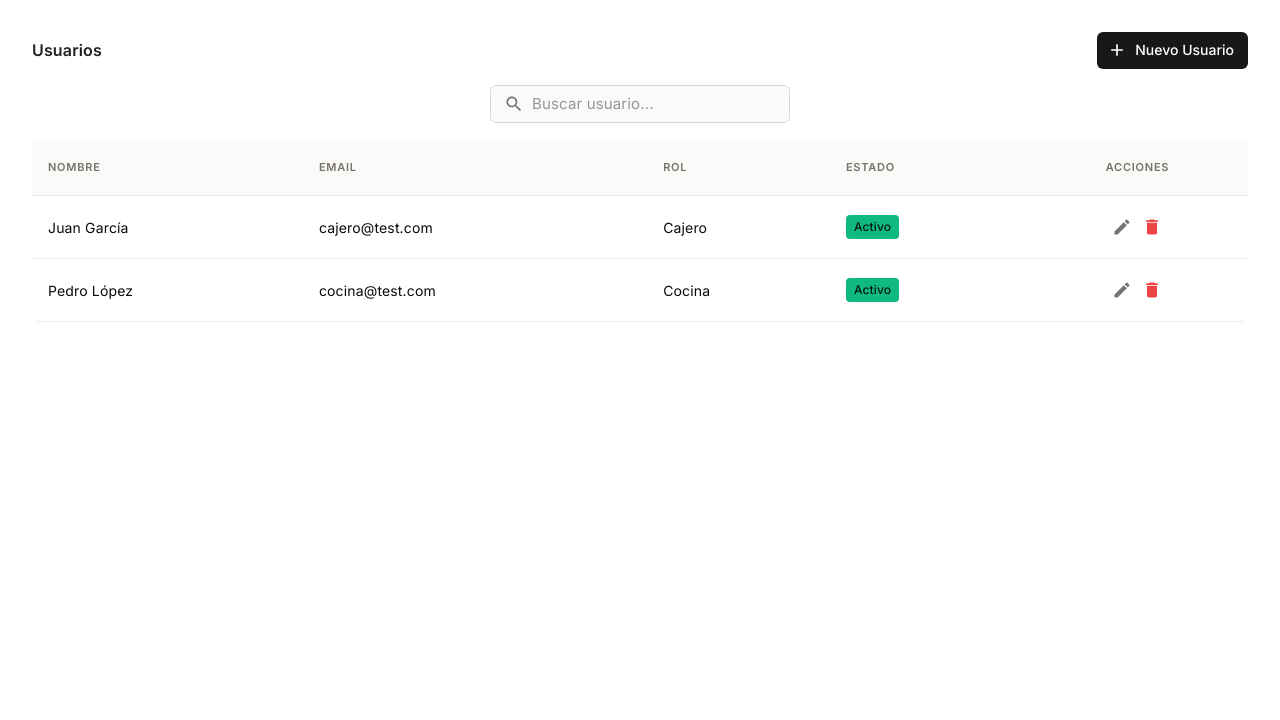
Test case: UserList › saves user edit and closes dialog on success
Expected: the text "Juan García" is shown, top-left (32, 196), bottom-right (303, 259)
Step 1. Click the button named "editar juan garcía" → [1122, 227], box top-left (1108, 212), bottom-right (1138, 242)
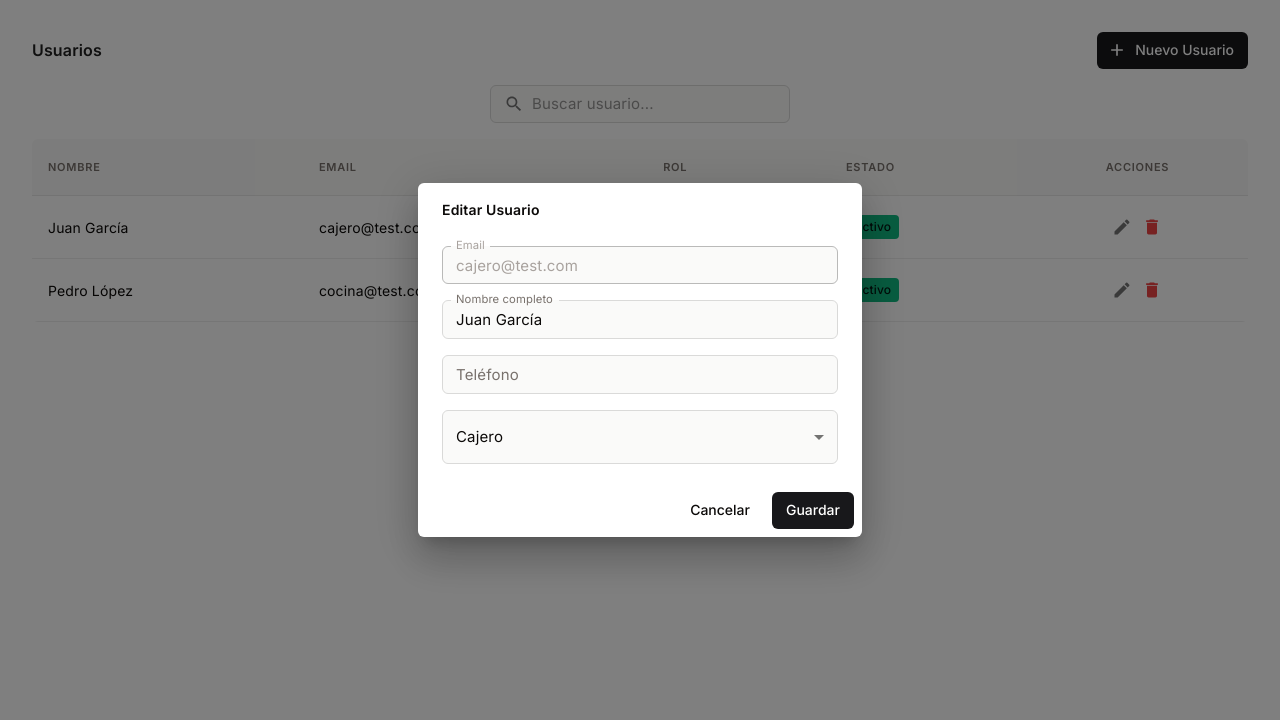
Step 2. Replace the text in the field named "nombre usuario" with "Juan García Updated" → [640, 320], box top-left (442, 300), bottom-right (838, 339)
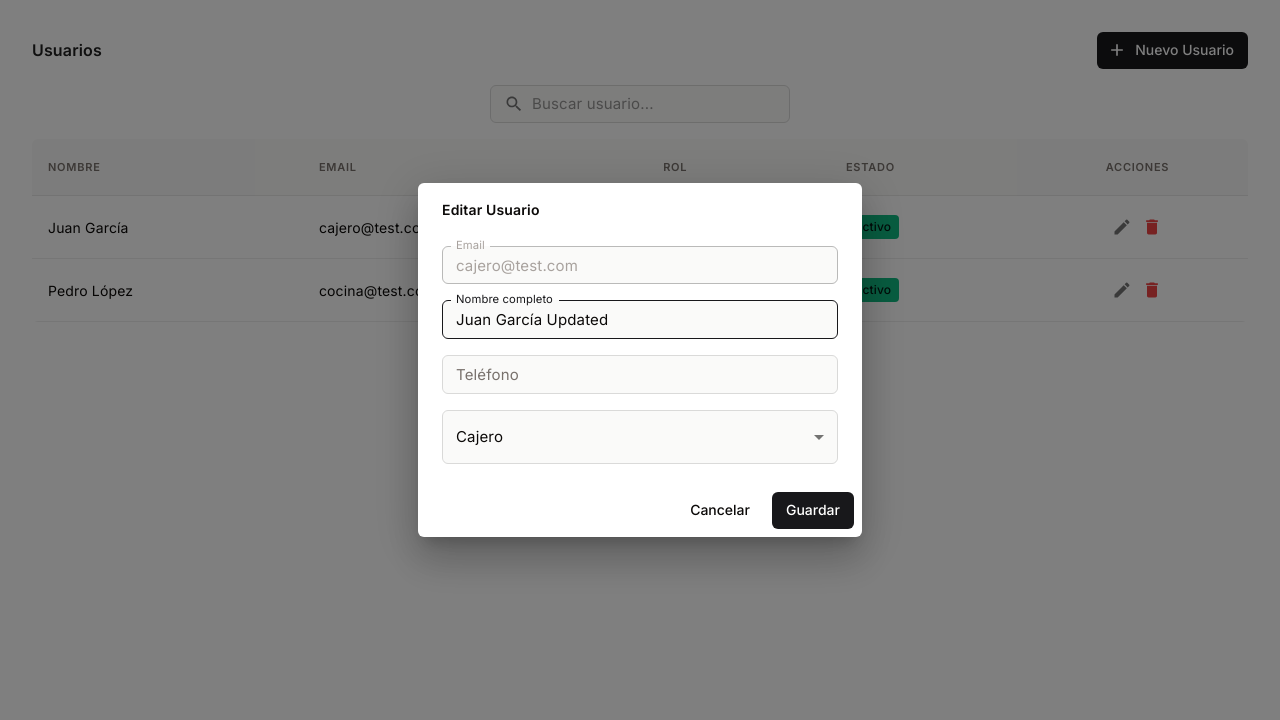
Step 3. Click the button "Guardar" → [813, 510], box top-left (772, 492), bottom-right (854, 529)
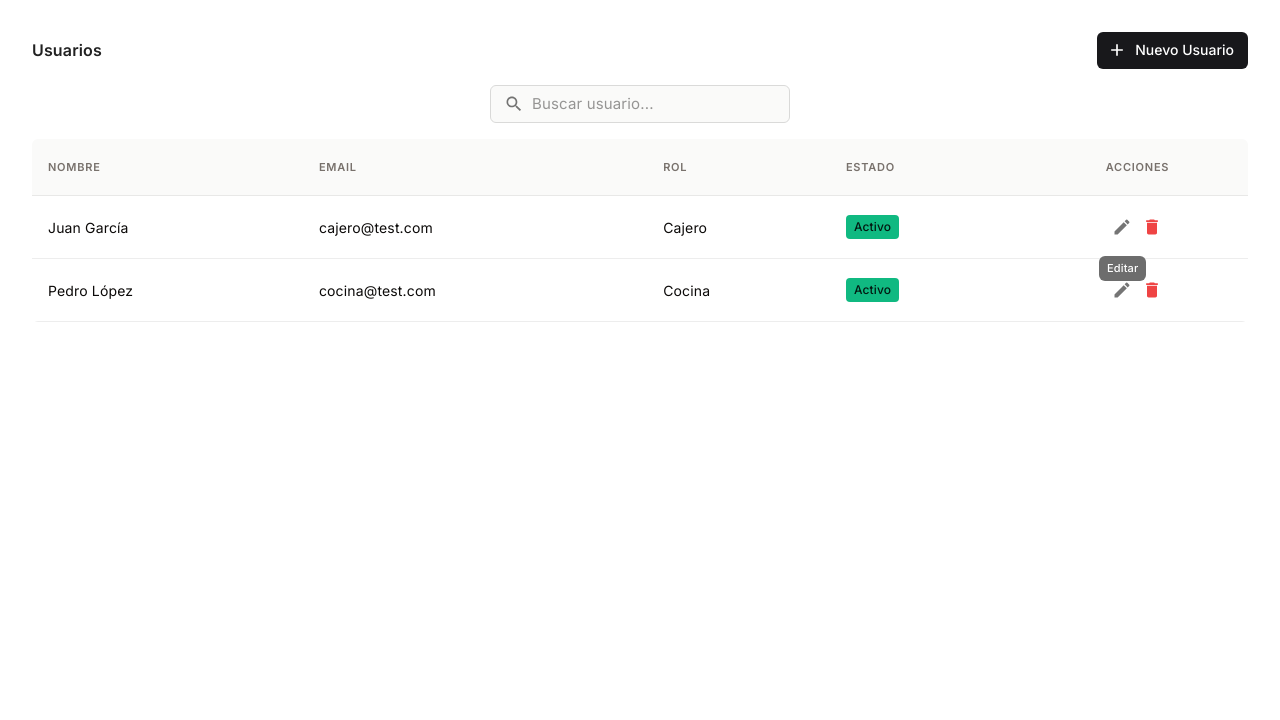
Result: the heading "Editar Usuario" is gone
